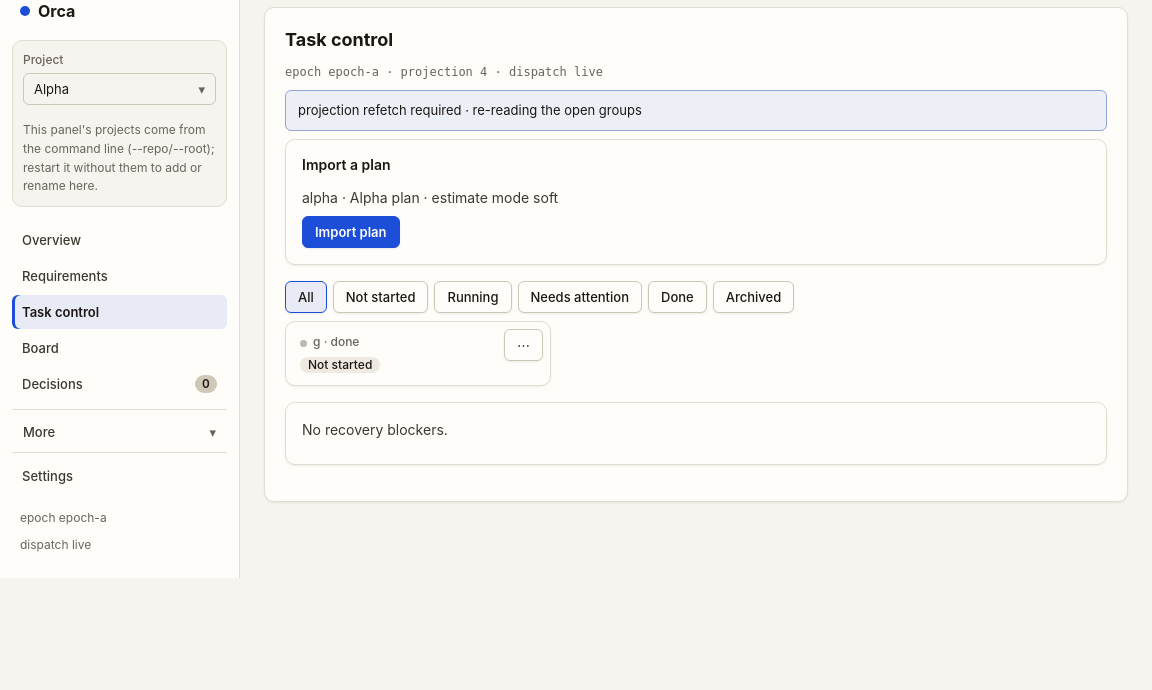
Scenario: real App honors independently newer same-index attempt with missing capture instead of reusing saved work
Step 1. Click the button "g · done Not started" → (340, 365), box [285, 321, 551, 386]
Wait 1 ms
(page scrolled)
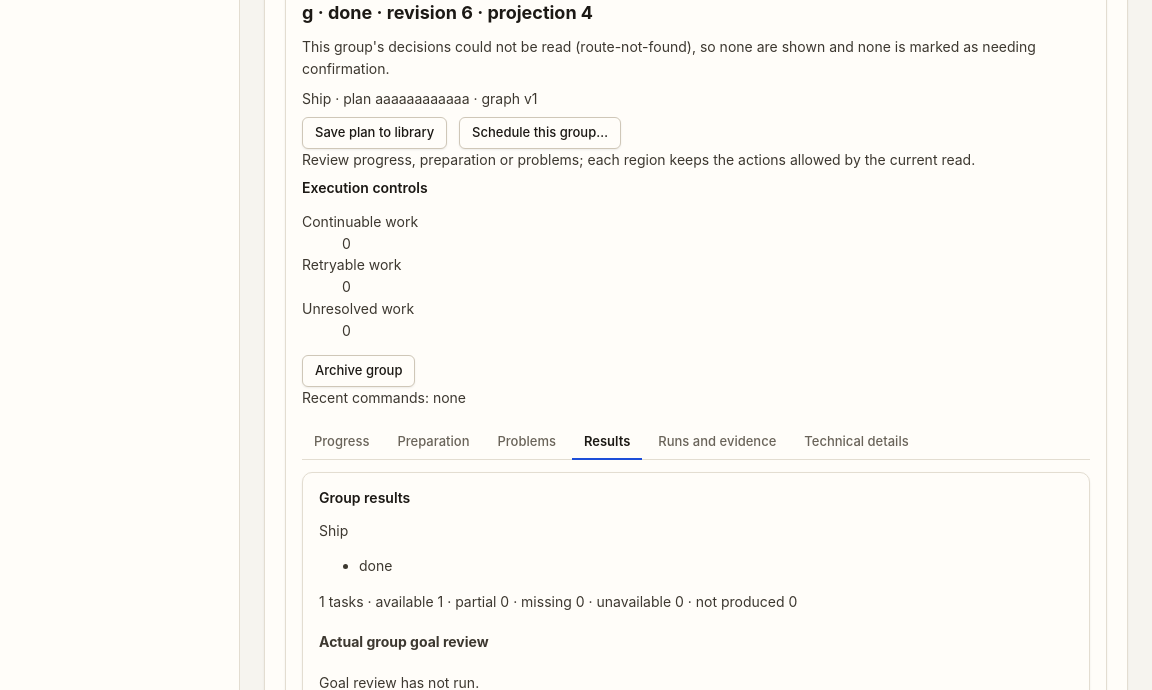
Step 2. Click the tab "Progress" → (342, 443), box [302, 425, 382, 460]
(page scrolled)
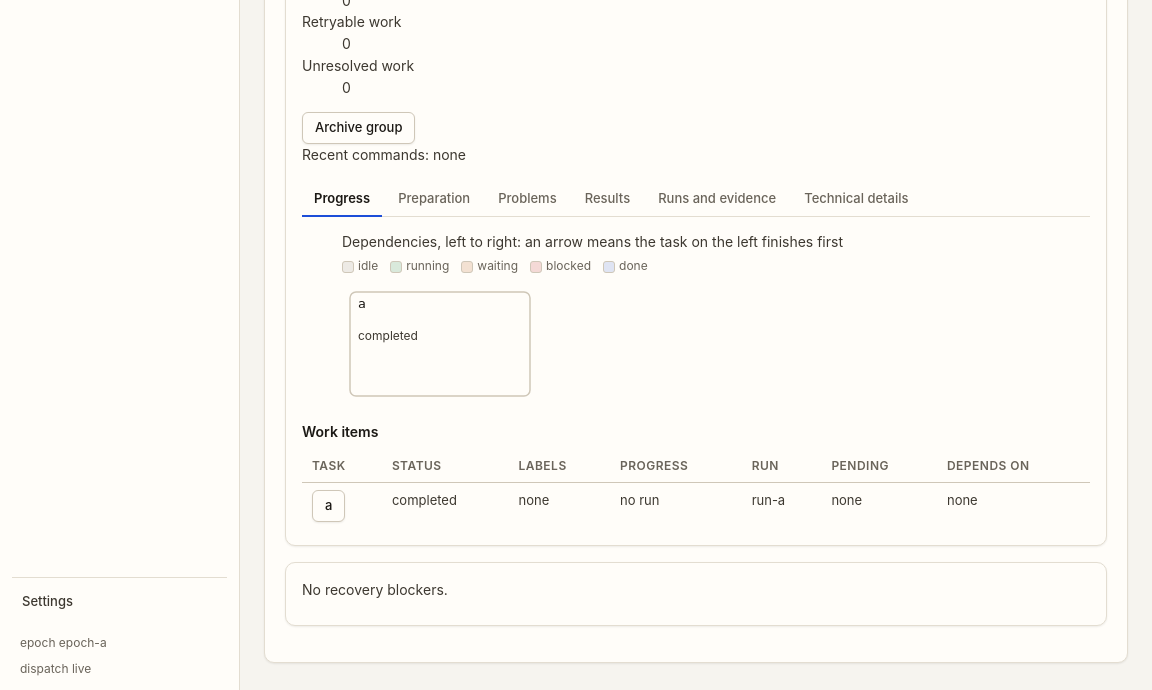
Step 3. Click the button "a" → (329, 506), box [312, 490, 345, 522]
Wait 1 ms
(page scrolled)
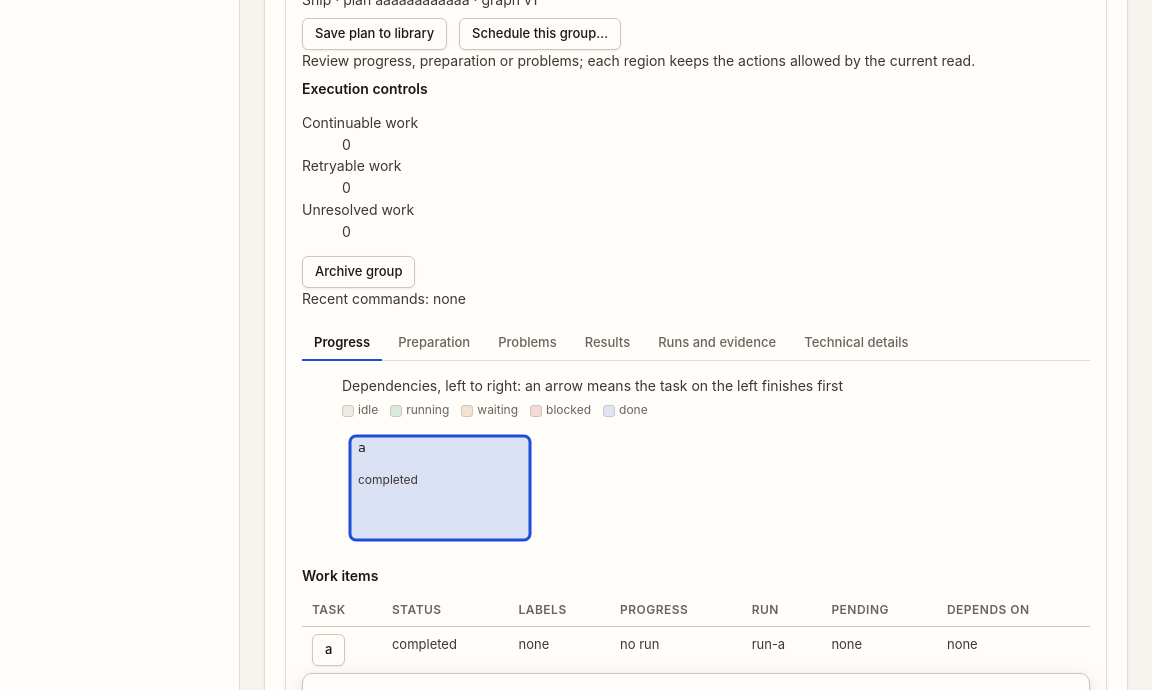
Step 4. Click the tab "Results" → (607, 344), box [573, 326, 642, 361]
Wait 4001 ms
(page scrolled)
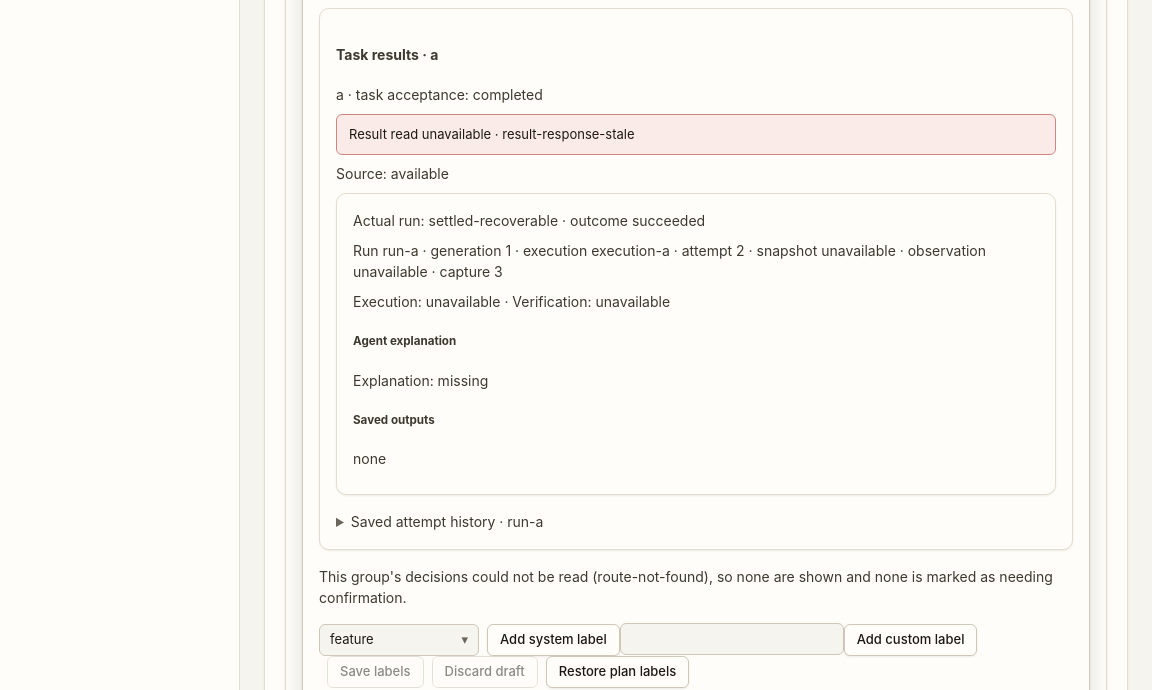
Expected: the element named "Current result · run-a" shows "attempt 2", [353, 242, 986, 280]
